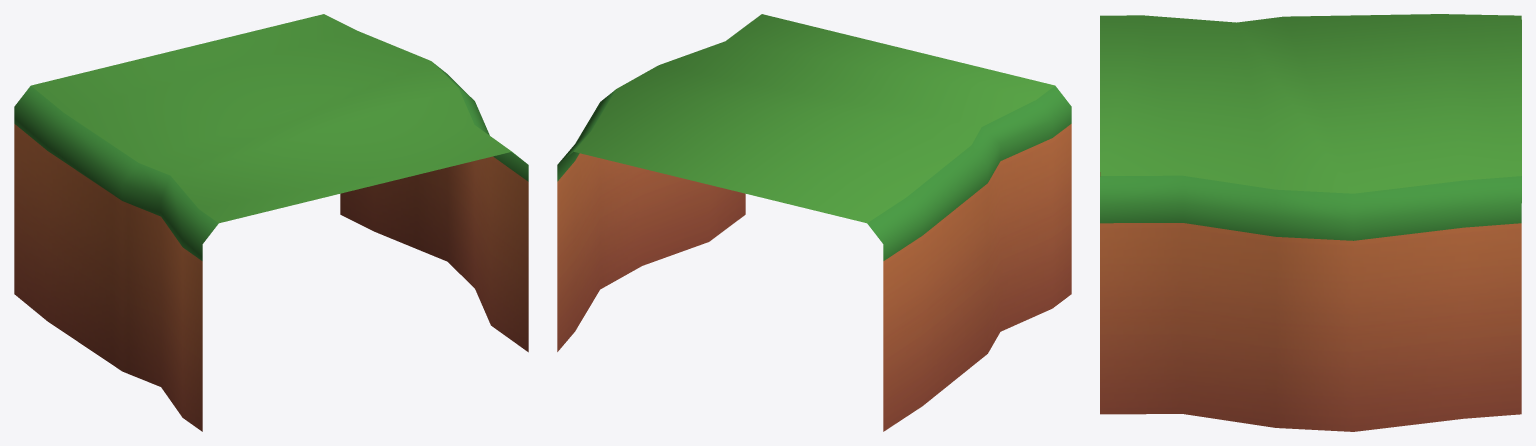
File: Straight S Path 02.FBX
3 views of the same model, side by side, from view 1: azimuth 30°, elevation 25°; view 2: azimuth 150°, elevation 25°; view 3: azimuth 270°, elevation 25° (orthographic). The views are drawn at different scales.
Visible parts, largest first — view 1: Straight S Path 02; view 2: Straight S Path 02; view 3: Straight S Path 02.
Part boxes in pixels (x1=…): Straight S Path 02: x1=14, y1=14, x2=528, y2=431; Straight S Path 02: x1=557, y1=14, x2=1071, y2=431; Straight S Path 02: x1=1100, y1=14, x2=1521, y2=431.
Bounding box in the file's own units: 554 × 300 × 500.
1 material, 1 textured.
